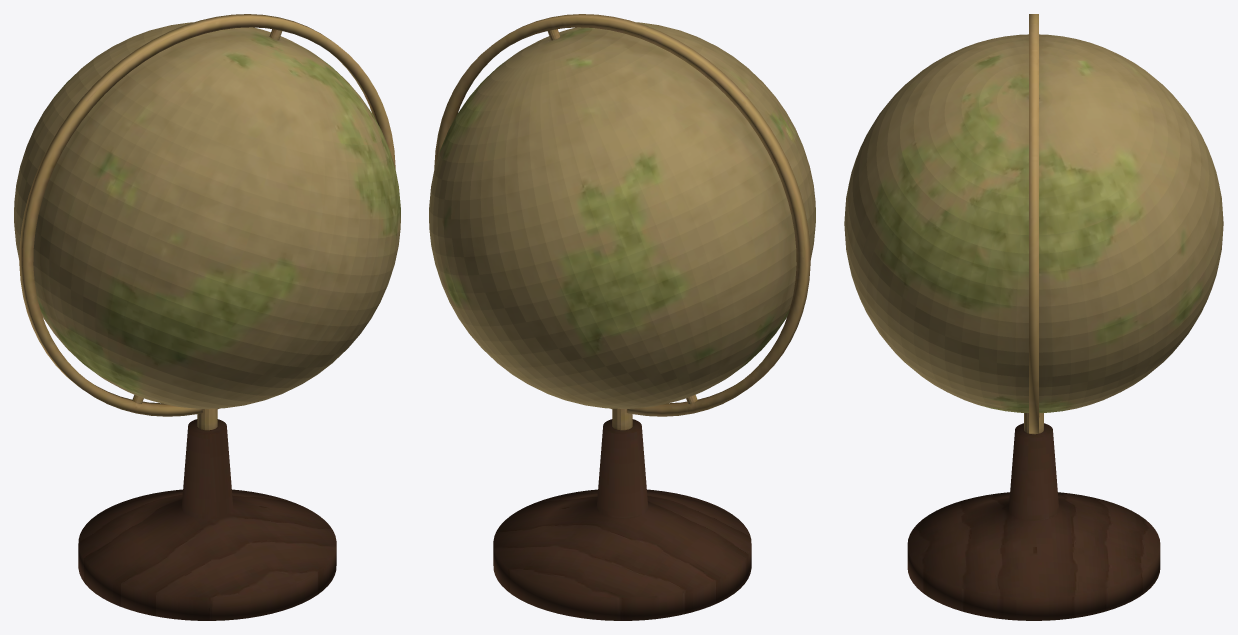
The model's file is antique.glb.
3 views of the same model, side by side, from view 1: azimuth 30°, elevation 25°; view 2: azimuth 150°, elevation 25°; view 3: azimuth 270°, elevation 25° (orthographic). The views are drawn at different scales.
Parts seen in each view (by area): view 1: globe_map, wood_z, brass; view 2: globe_map, wood_z, brass; view 3: globe_map, wood_z, brass.
Boxes of the visible parts, x1,y1,x2,y2 form: globe_map: [14, 22, 400, 408]; wood_z: [78, 419, 336, 620]; brass: [19, 14, 395, 430]; globe_map: [429, 22, 815, 408]; wood_z: [493, 419, 751, 620]; brass: [434, 14, 810, 430]; globe_map: [844, 34, 1223, 412]; wood_z: [907, 423, 1160, 620]; brass: [1024, 14, 1043, 434].
Bounding box in the file's own units: 0.3319 × 0.4659 × 0.3.
3 materials, 3 textured.
